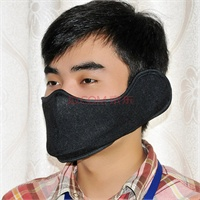face_mask: (36, 34, 134, 158)
